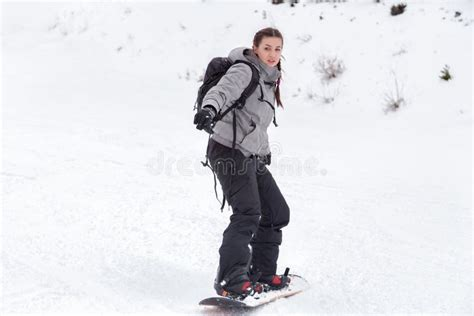snowboarder: (186, 18, 312, 313)
